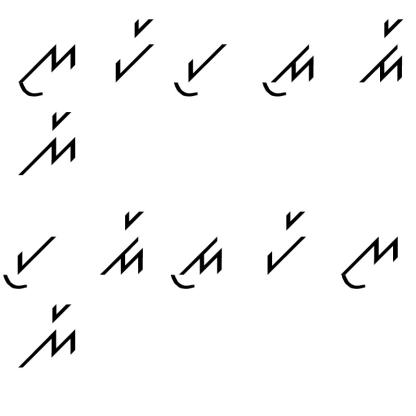dar: (352, 14, 411, 86), (98, 207, 148, 275)
daw: (254, 32, 326, 102), (167, 226, 228, 294)
nar: (9, 110, 82, 178), (16, 300, 80, 371)
naw: (10, 35, 83, 102), (338, 226, 401, 293)
par: (105, 16, 161, 87), (260, 203, 310, 280)
paw: (171, 30, 232, 102), (4, 228, 62, 290)
